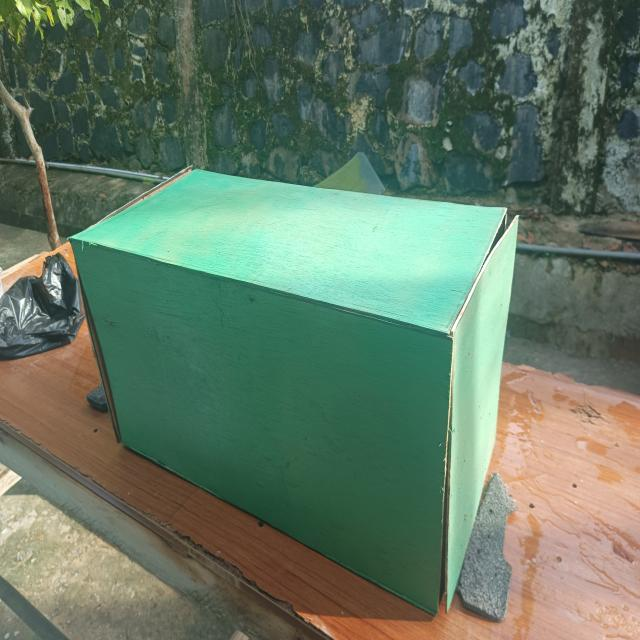green_box: (53, 116, 537, 633)
